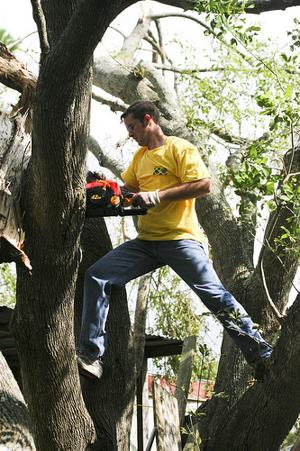person: (74, 101, 275, 380)
